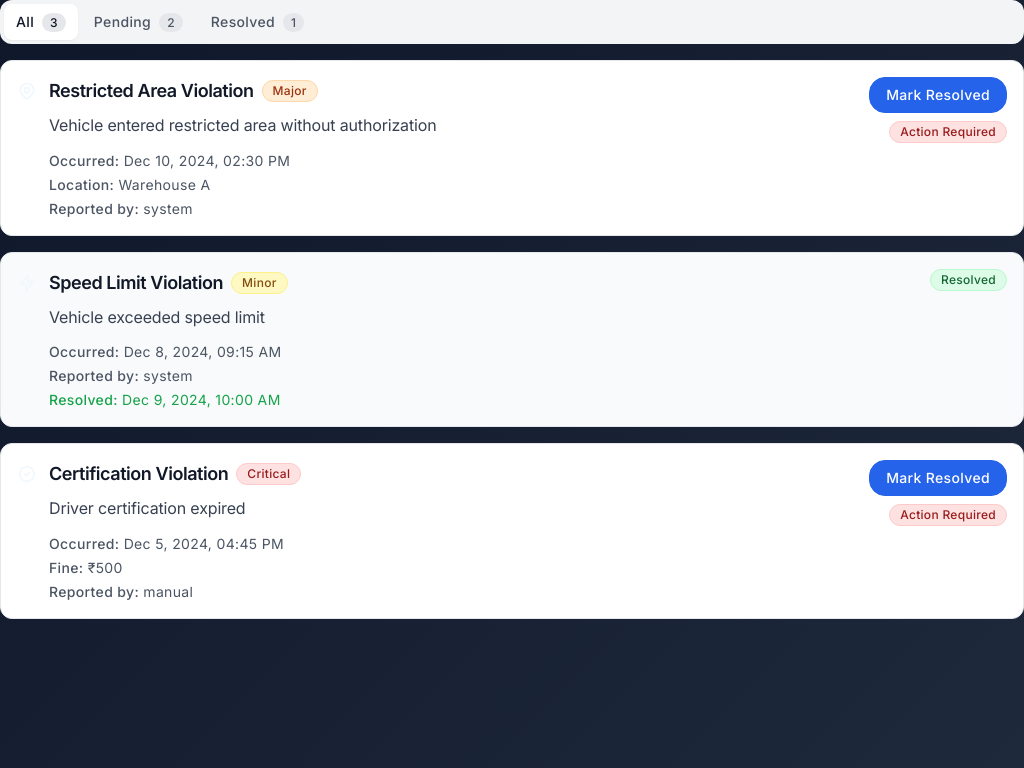
it: ViolationsList › filters violations by status
Click on pending filter
Click the button "Pending2" at coordinates (138, 22), box [82,4,195,40]
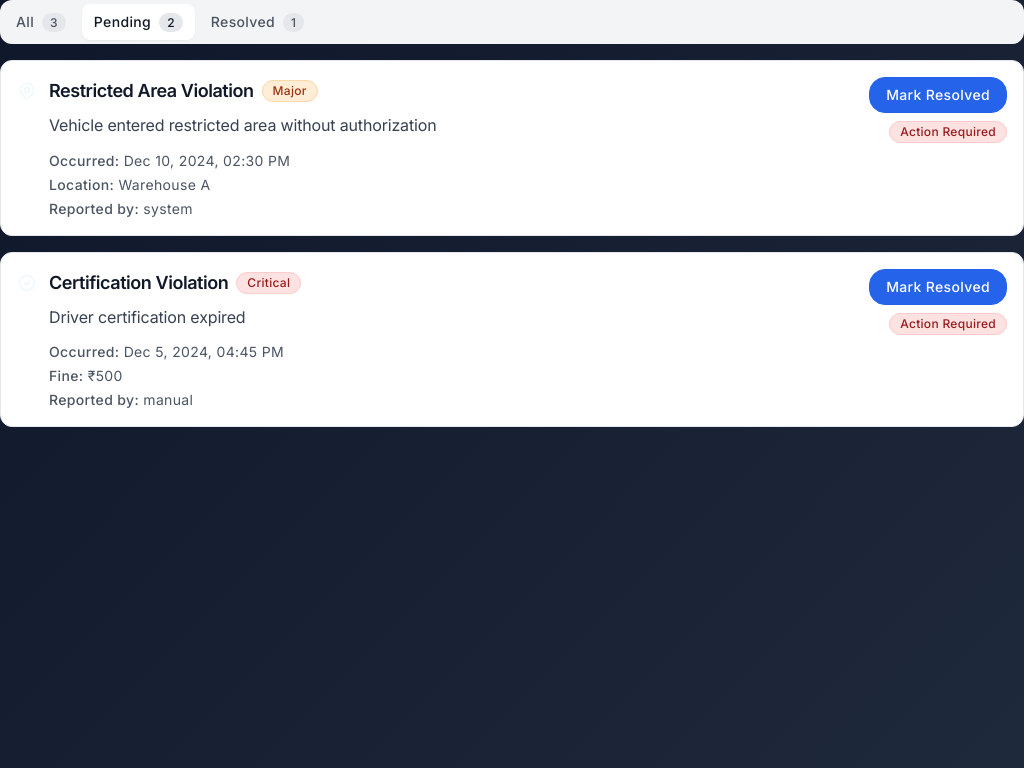
Expected: the heading "Restricted Area Violation" is shown, [49,77,254,105]
Expected: the heading "Speed Limit Violation" is gone
